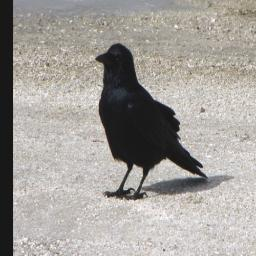Crow: (92, 41, 210, 202)
